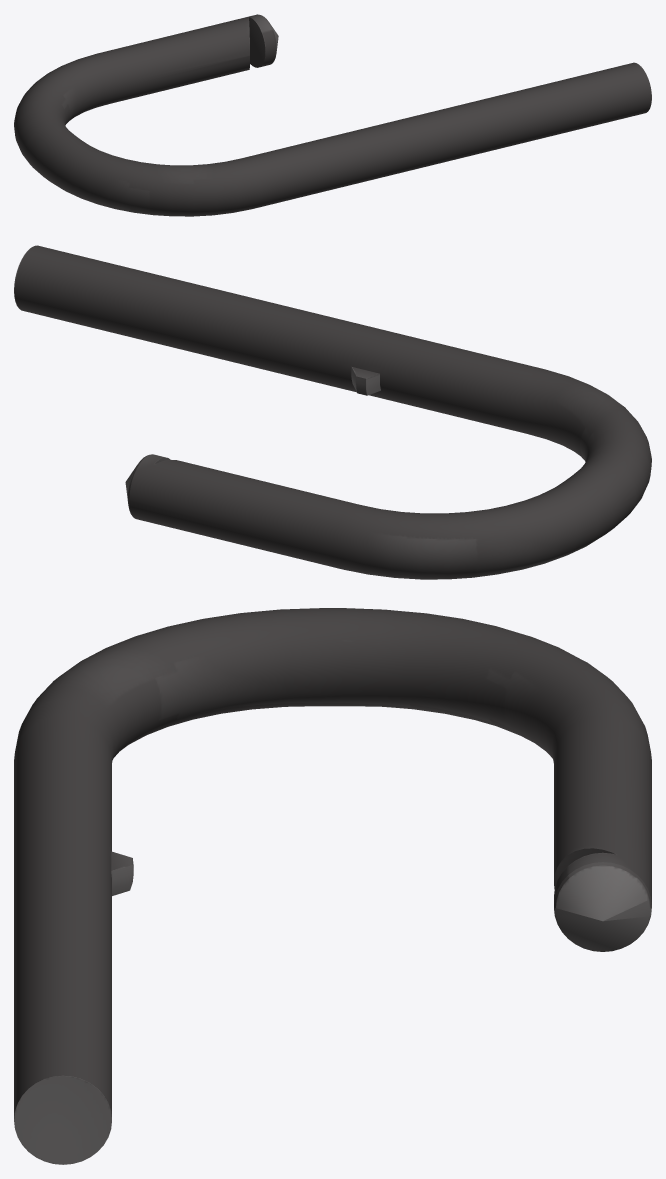
The model's file is Schloss_smooth_rohr.glb.
3 renders of one model, top to bottom at view 1: azimuth 30°, elevation 25°; view 2: azimuth 150°, elevation 25°; view 3: azimuth 270°, elevation 25°, orthographic. The views are drawn at different scales.
Parts seen in each view (by area): view 1: Cylinder; view 2: Cylinder; view 3: Cylinder.
Boxes of the visible parts, <box> form: Cylinder: <box>14,14,651,216</box>; Cylinder: <box>14,245,651,579</box>; Cylinder: <box>14,608,651,1164</box>.
Size of the model in its own units: 2.33 by 0.2 by 1.3.
Materials: 1 (1 with a texture image).
